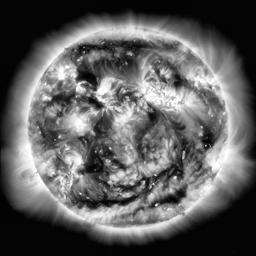solar flares: (139, 80, 183, 112), (61, 110, 97, 137), (61, 147, 87, 171), (112, 102, 133, 129), (96, 76, 115, 102), (203, 145, 219, 168), (73, 79, 87, 102), (53, 65, 68, 82)
sunspots: (74, 195, 135, 208), (158, 185, 190, 203), (111, 40, 151, 54), (89, 148, 111, 169), (169, 156, 189, 178), (54, 92, 79, 109), (75, 66, 98, 81), (169, 69, 185, 88), (202, 128, 215, 149), (78, 42, 108, 51), (86, 93, 103, 108), (146, 108, 159, 126)
